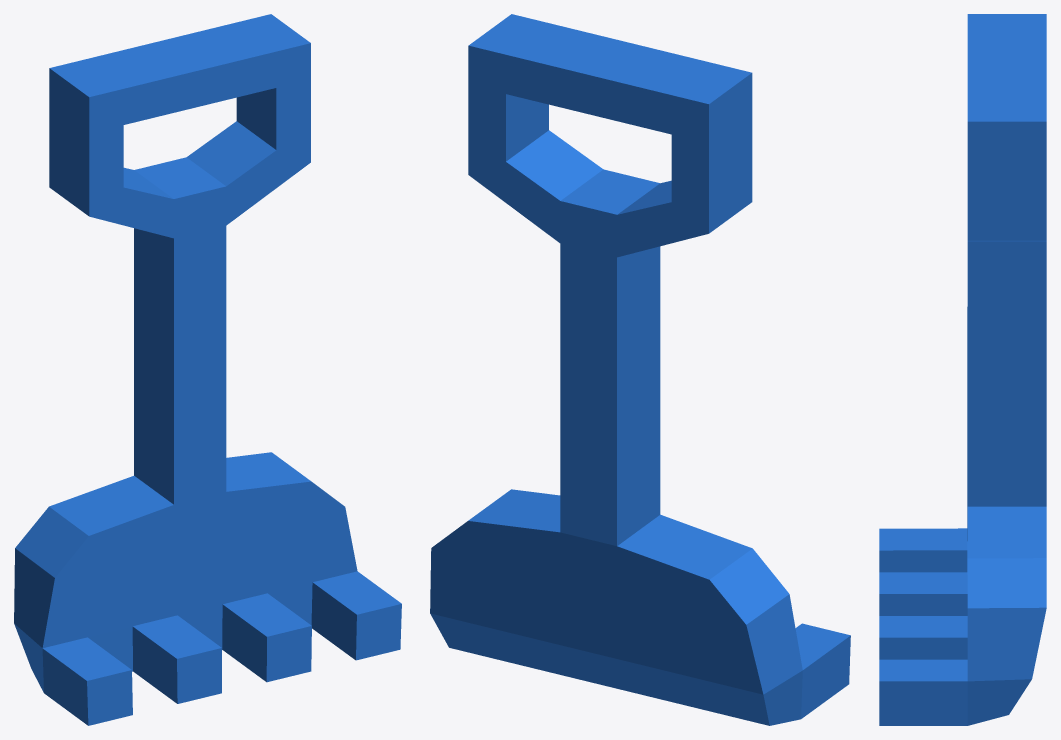
Rendered from Rake.fbx.
3 views of the same model, side by side, from view 1: azimuth 30°, elevation 25°; view 2: azimuth 150°, elevation 25°; view 3: azimuth 270°, elevation 25° (orthographic). The views are drawn at different scales.
Visible parts, largest first — view 1: Rake; view 2: Rake; view 3: Rake.
Boxes of the visible parts, left/top/right/bottom form: Rake: left=14, top=14, right=401, bottom=725; Rake: left=430, top=14, right=850, bottom=725; Rake: left=879, top=14, right=1046, bottom=725.
Bounding box in the file's own units: 0.2624 × 0.4657 × 0.1214.
